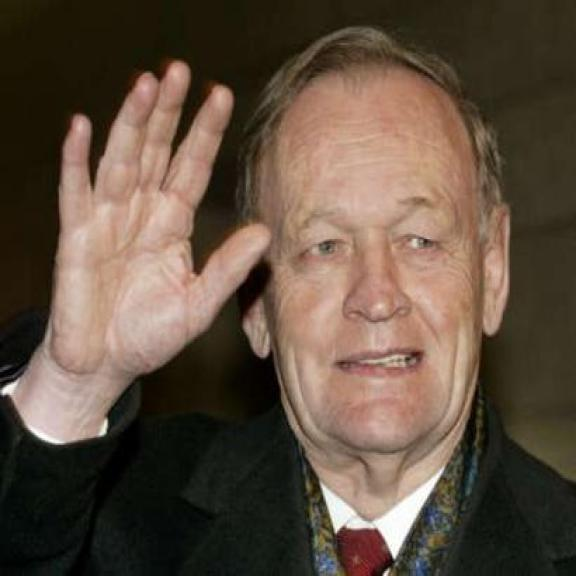face: (218, 90, 515, 454)
